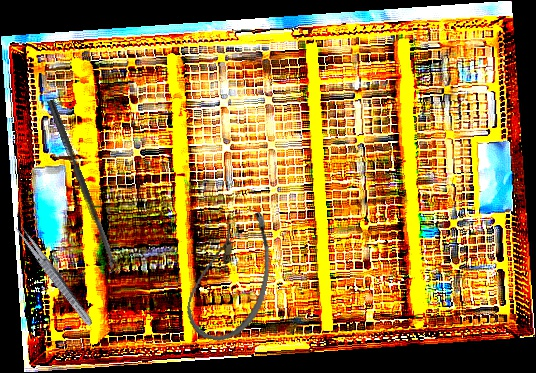Cannula: (181, 201, 282, 349)
Dressing Forceps: (12, 222, 96, 329)
Surgical Spoon: (45, 99, 120, 273)
